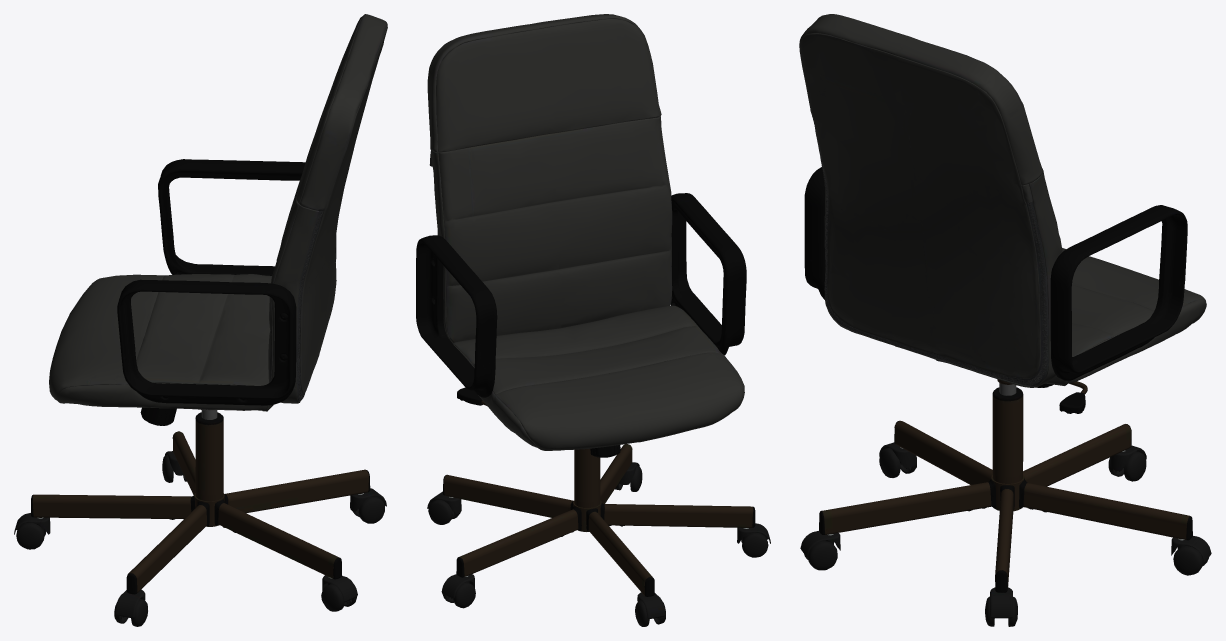
The model's file is OfficeChair.fbx.
3 renders of one model, left to right at view 1: azimuth 30°, elevation 25°; view 2: azimuth 150°, elevation 25°; view 3: azimuth 270°, elevation 25°, orthographic. The views are drawn at different scales.
Visible parts, largest first — view 1: RENBERGET_905.032.85; view 2: RENBERGET_905.032.85; view 3: RENBERGET_905.032.85.
Part boxes in pixels (bbox=[...]): RENBERGET_905.032.85: bbox=[14, 14, 387, 626]; RENBERGET_905.032.85: bbox=[416, 14, 770, 626]; RENBERGET_905.032.85: bbox=[799, 14, 1211, 626].
Bounding box in the file's own units: 103 × 153 × 102.
Materials: 1 (1 with a texture image).
